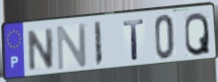0: (153, 13, 177, 62)
I: (92, 20, 104, 68)
N: (55, 22, 89, 73), (27, 26, 56, 74)
Q: (184, 11, 212, 58)
T: (122, 18, 146, 62)
